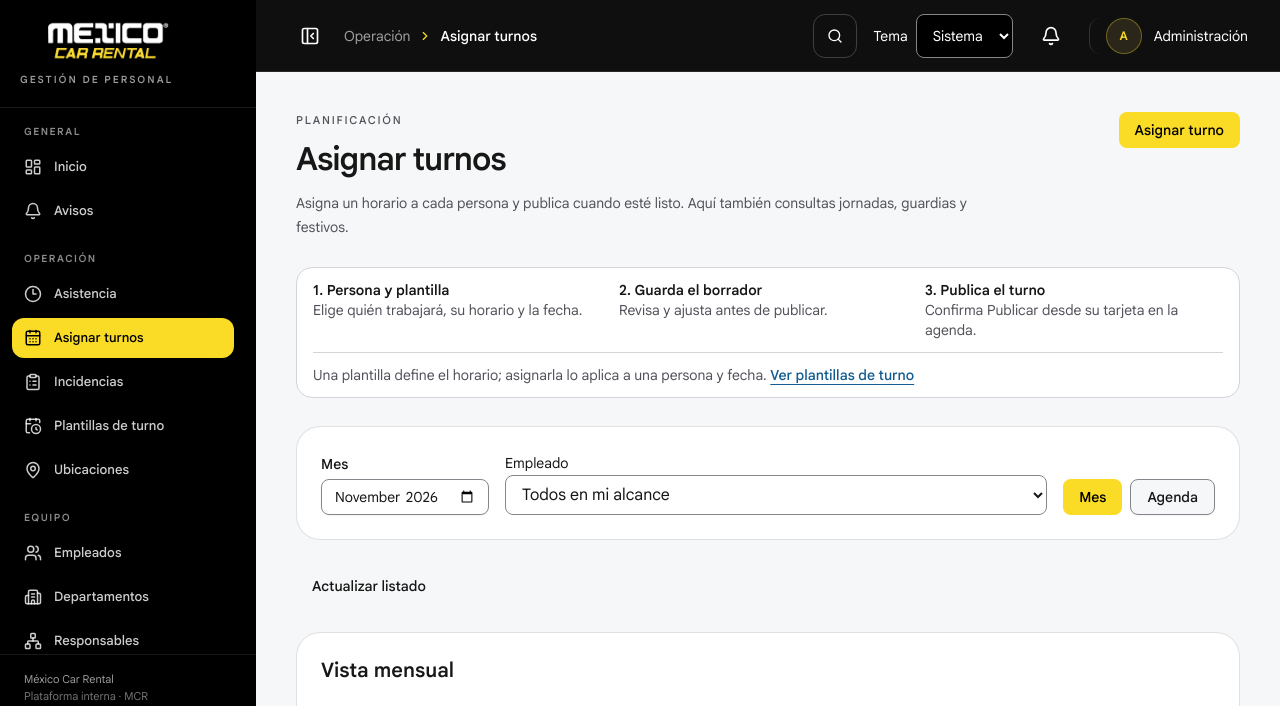
Test: asignación comprensible de turnos › muestra la plantilla elegida y actualiza persona y fecha antes de guardar el borrador
Click the button "Asignar turno" at (1179, 130), box [1119, 112, 1240, 148]
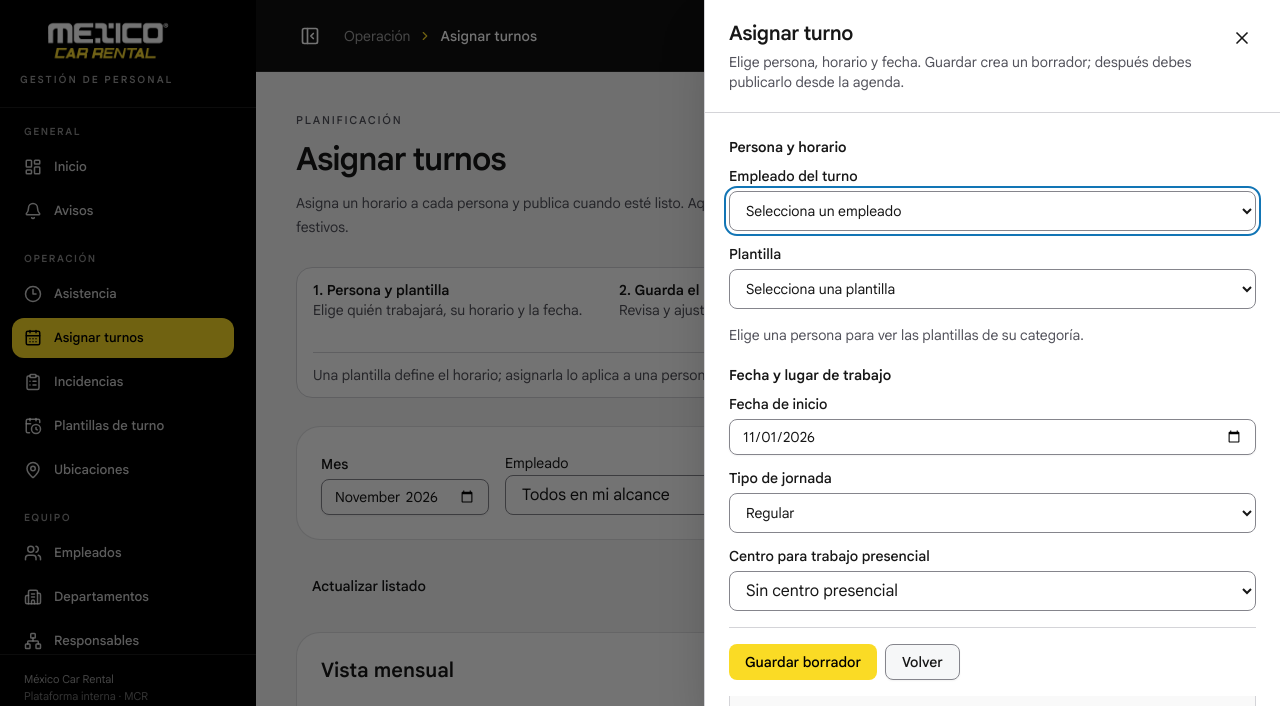
Select "José Pérez" in the dropdown labelled "Empleado del turno" at (992, 211), box [729, 191, 1256, 231]
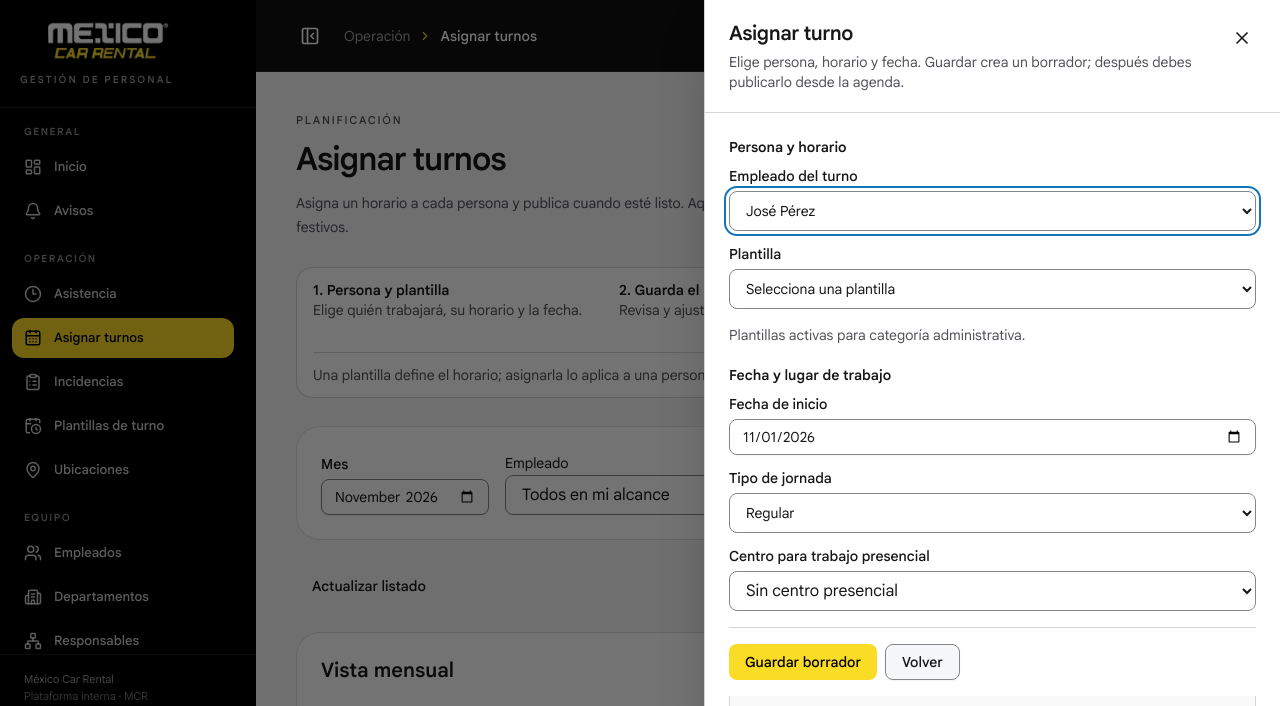
Select "Administrativo" in the dropdown labelled "Plantilla" at (992, 289), box [729, 269, 1256, 309]
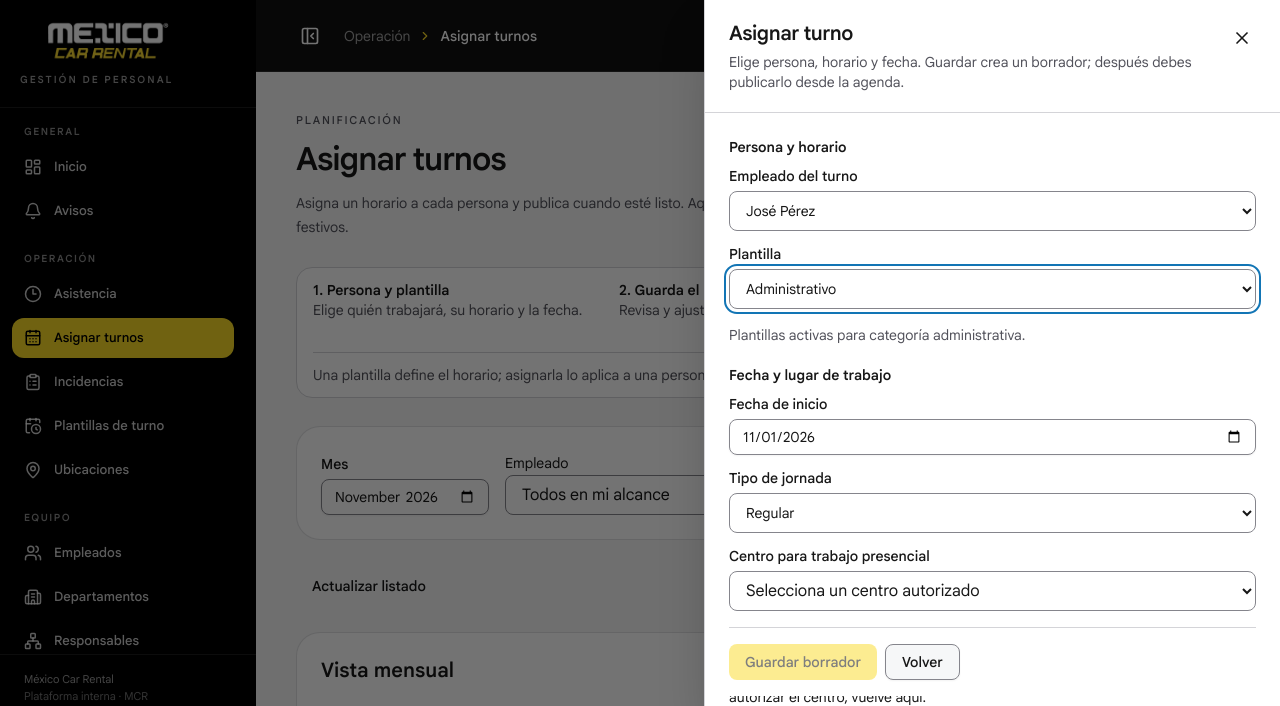
Select "Noche remota" in the dropdown labelled "Plantilla" at (992, 289), box [729, 269, 1256, 309]
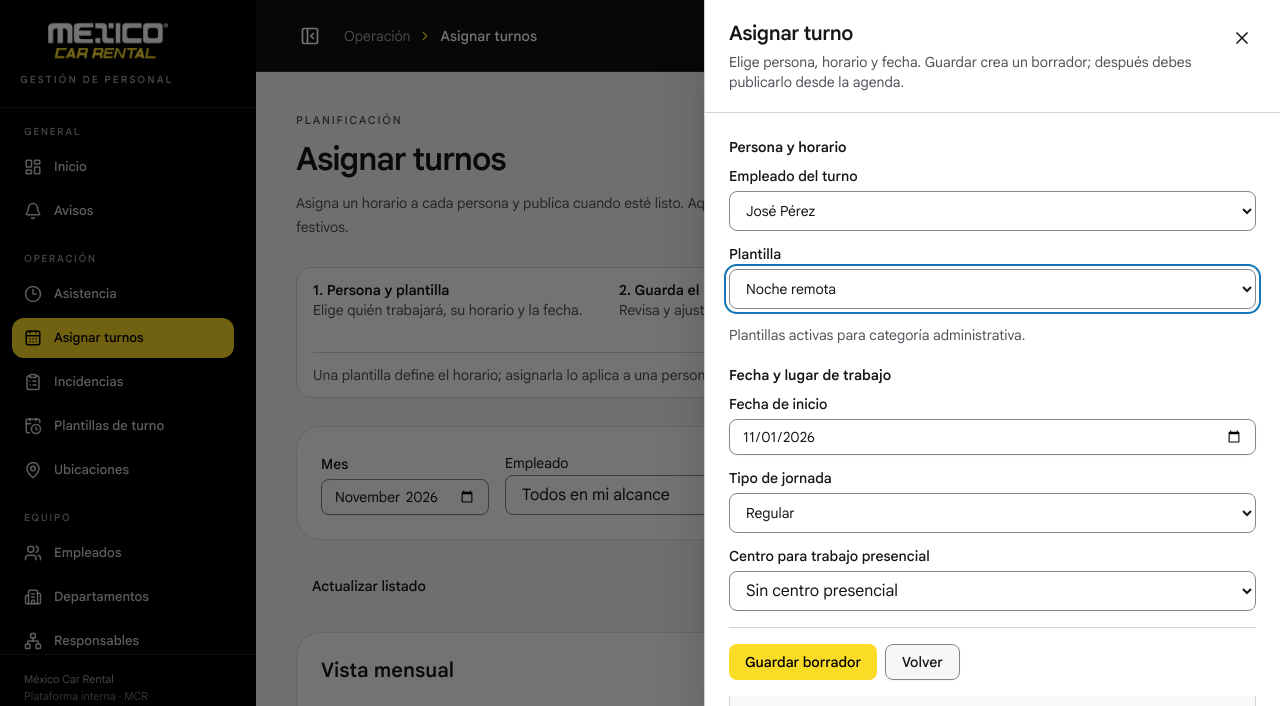
Type "2026-11-20" into the date field labelled "Fecha de inicio" at (992, 437), box [729, 419, 1256, 455]
(page scrolled)
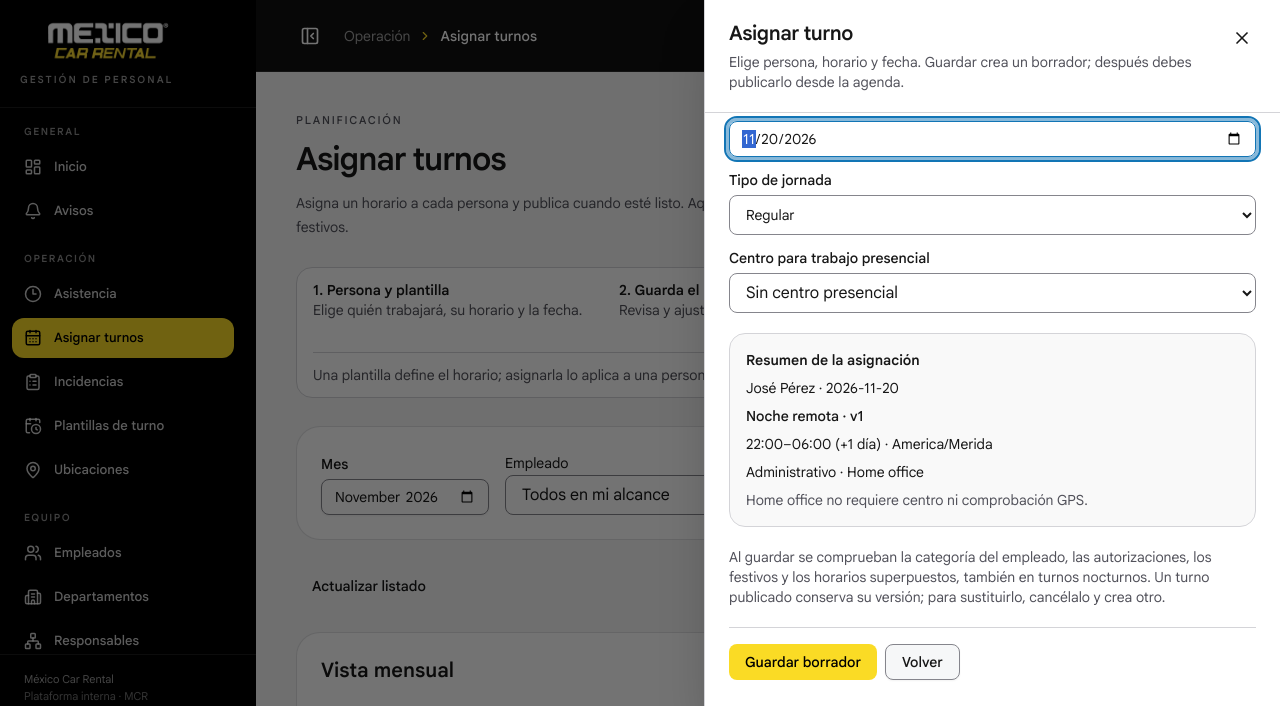
expect the element "Resumen de la asignación" shows "22:00–06:00 (+1 día)": met, box [729, 333, 1256, 527]
expect the element "Resumen de la asignación" shows "Administrativo": met, box [746, 463, 836, 481]
expect the element "Resumen de la asignación" shows "Home office": met, box [847, 463, 924, 481]
